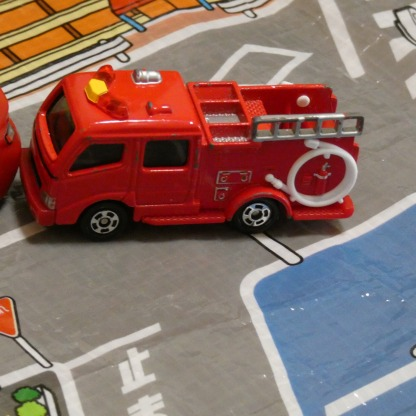car: (22, 68, 356, 238)
